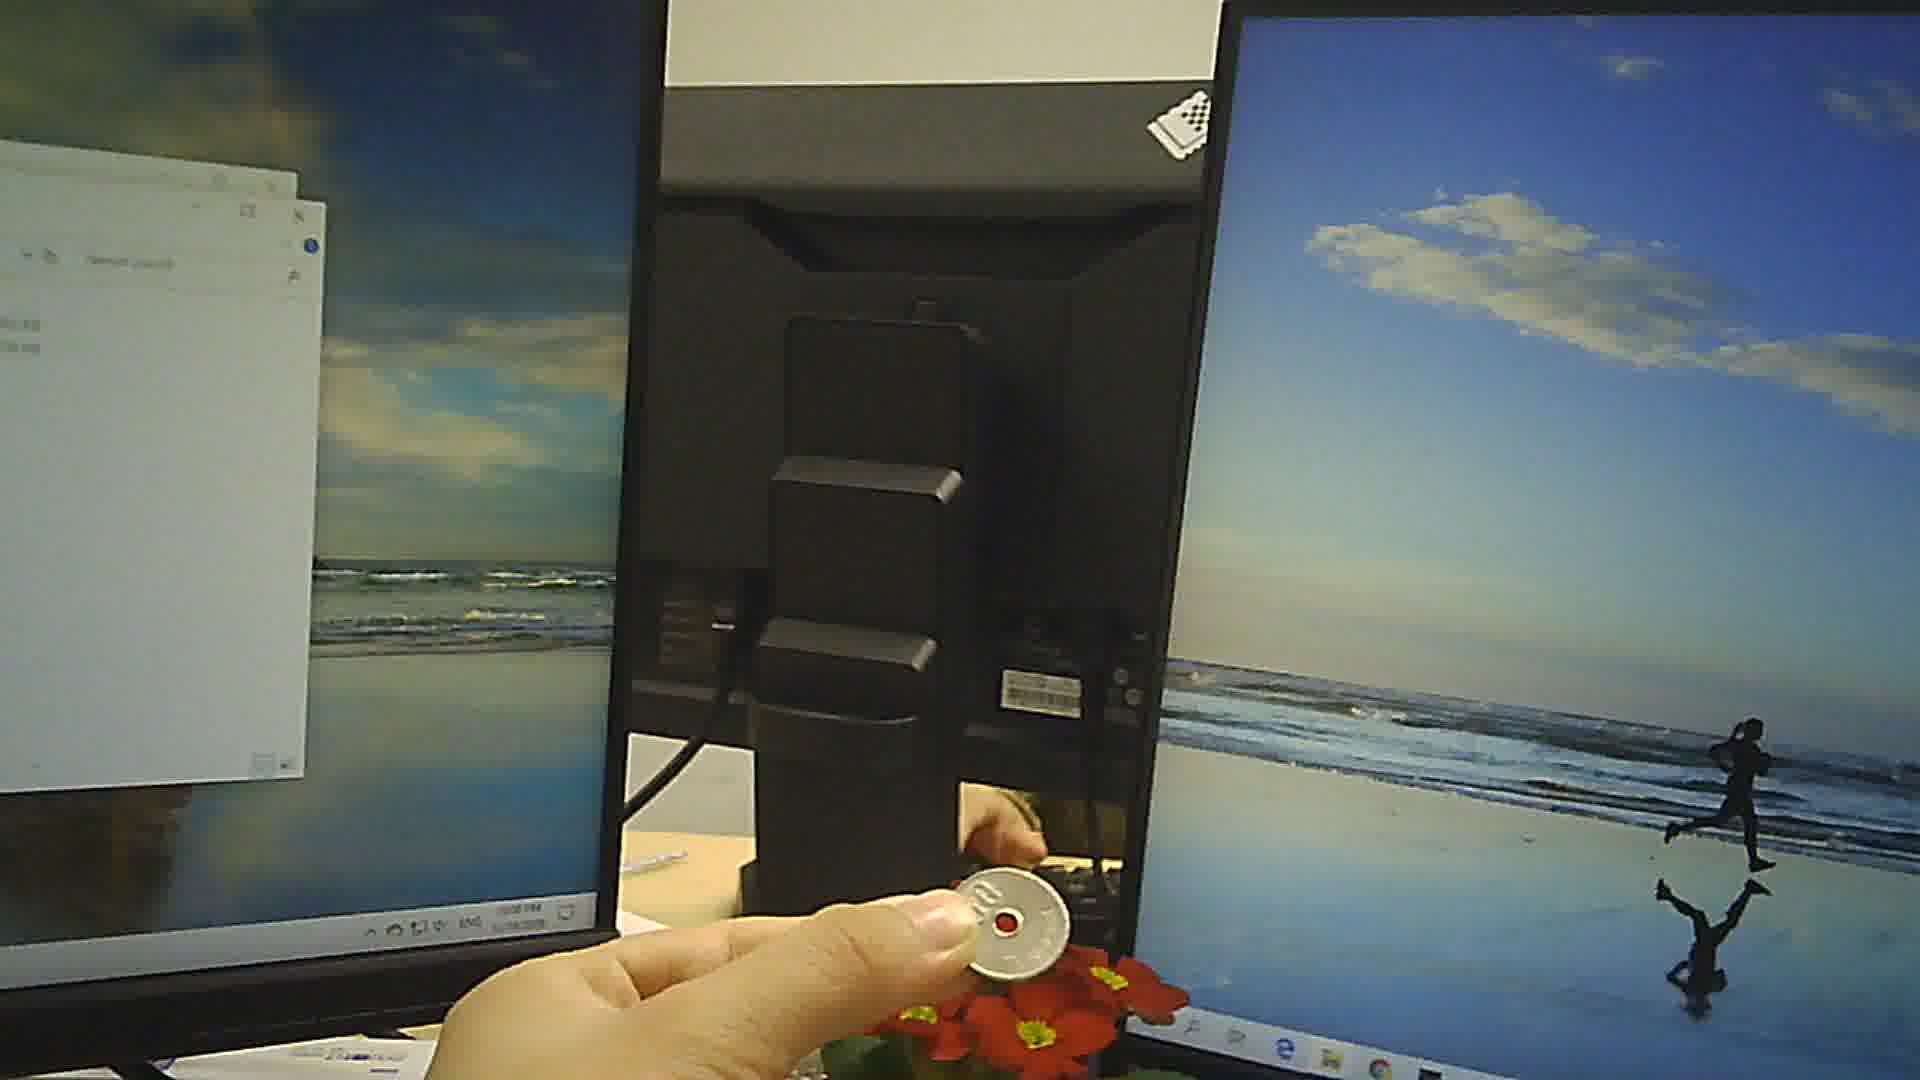50 Yen: (949, 862, 1071, 977)
